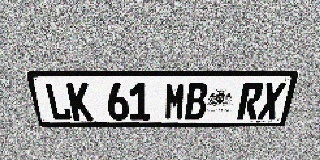1: (128, 83, 150, 120)
6: (105, 83, 129, 120)
B: (185, 83, 209, 120)
K: (66, 83, 93, 121)
L: (43, 83, 73, 121)
M: (164, 83, 186, 120)
R: (237, 82, 265, 120)
X: (257, 82, 286, 119)
